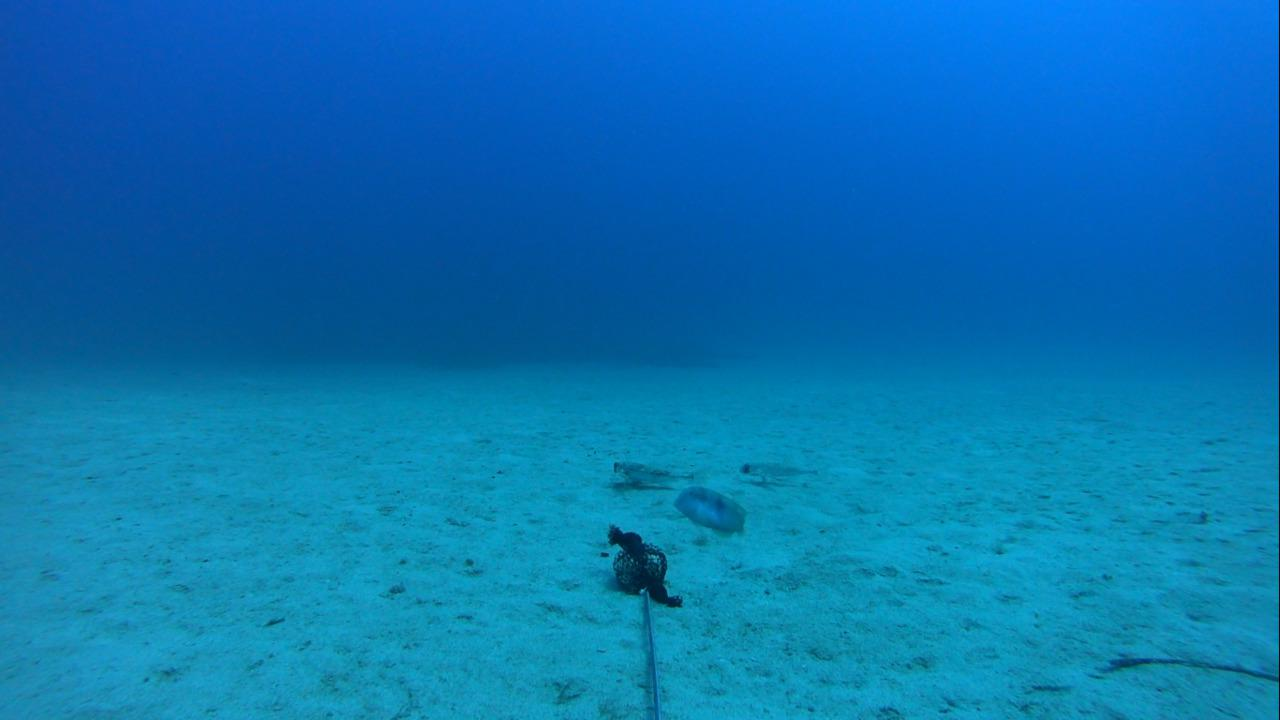dactylopterus: (591, 451, 703, 497), (725, 453, 830, 497)
raor: (664, 480, 750, 538)
